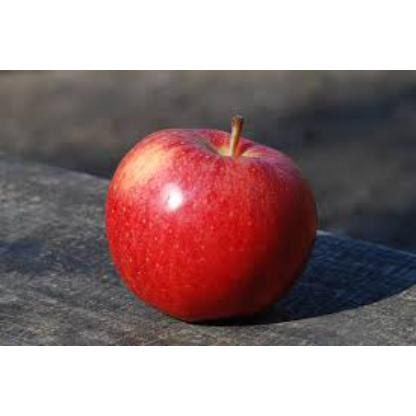apple: (108, 125, 315, 323)
